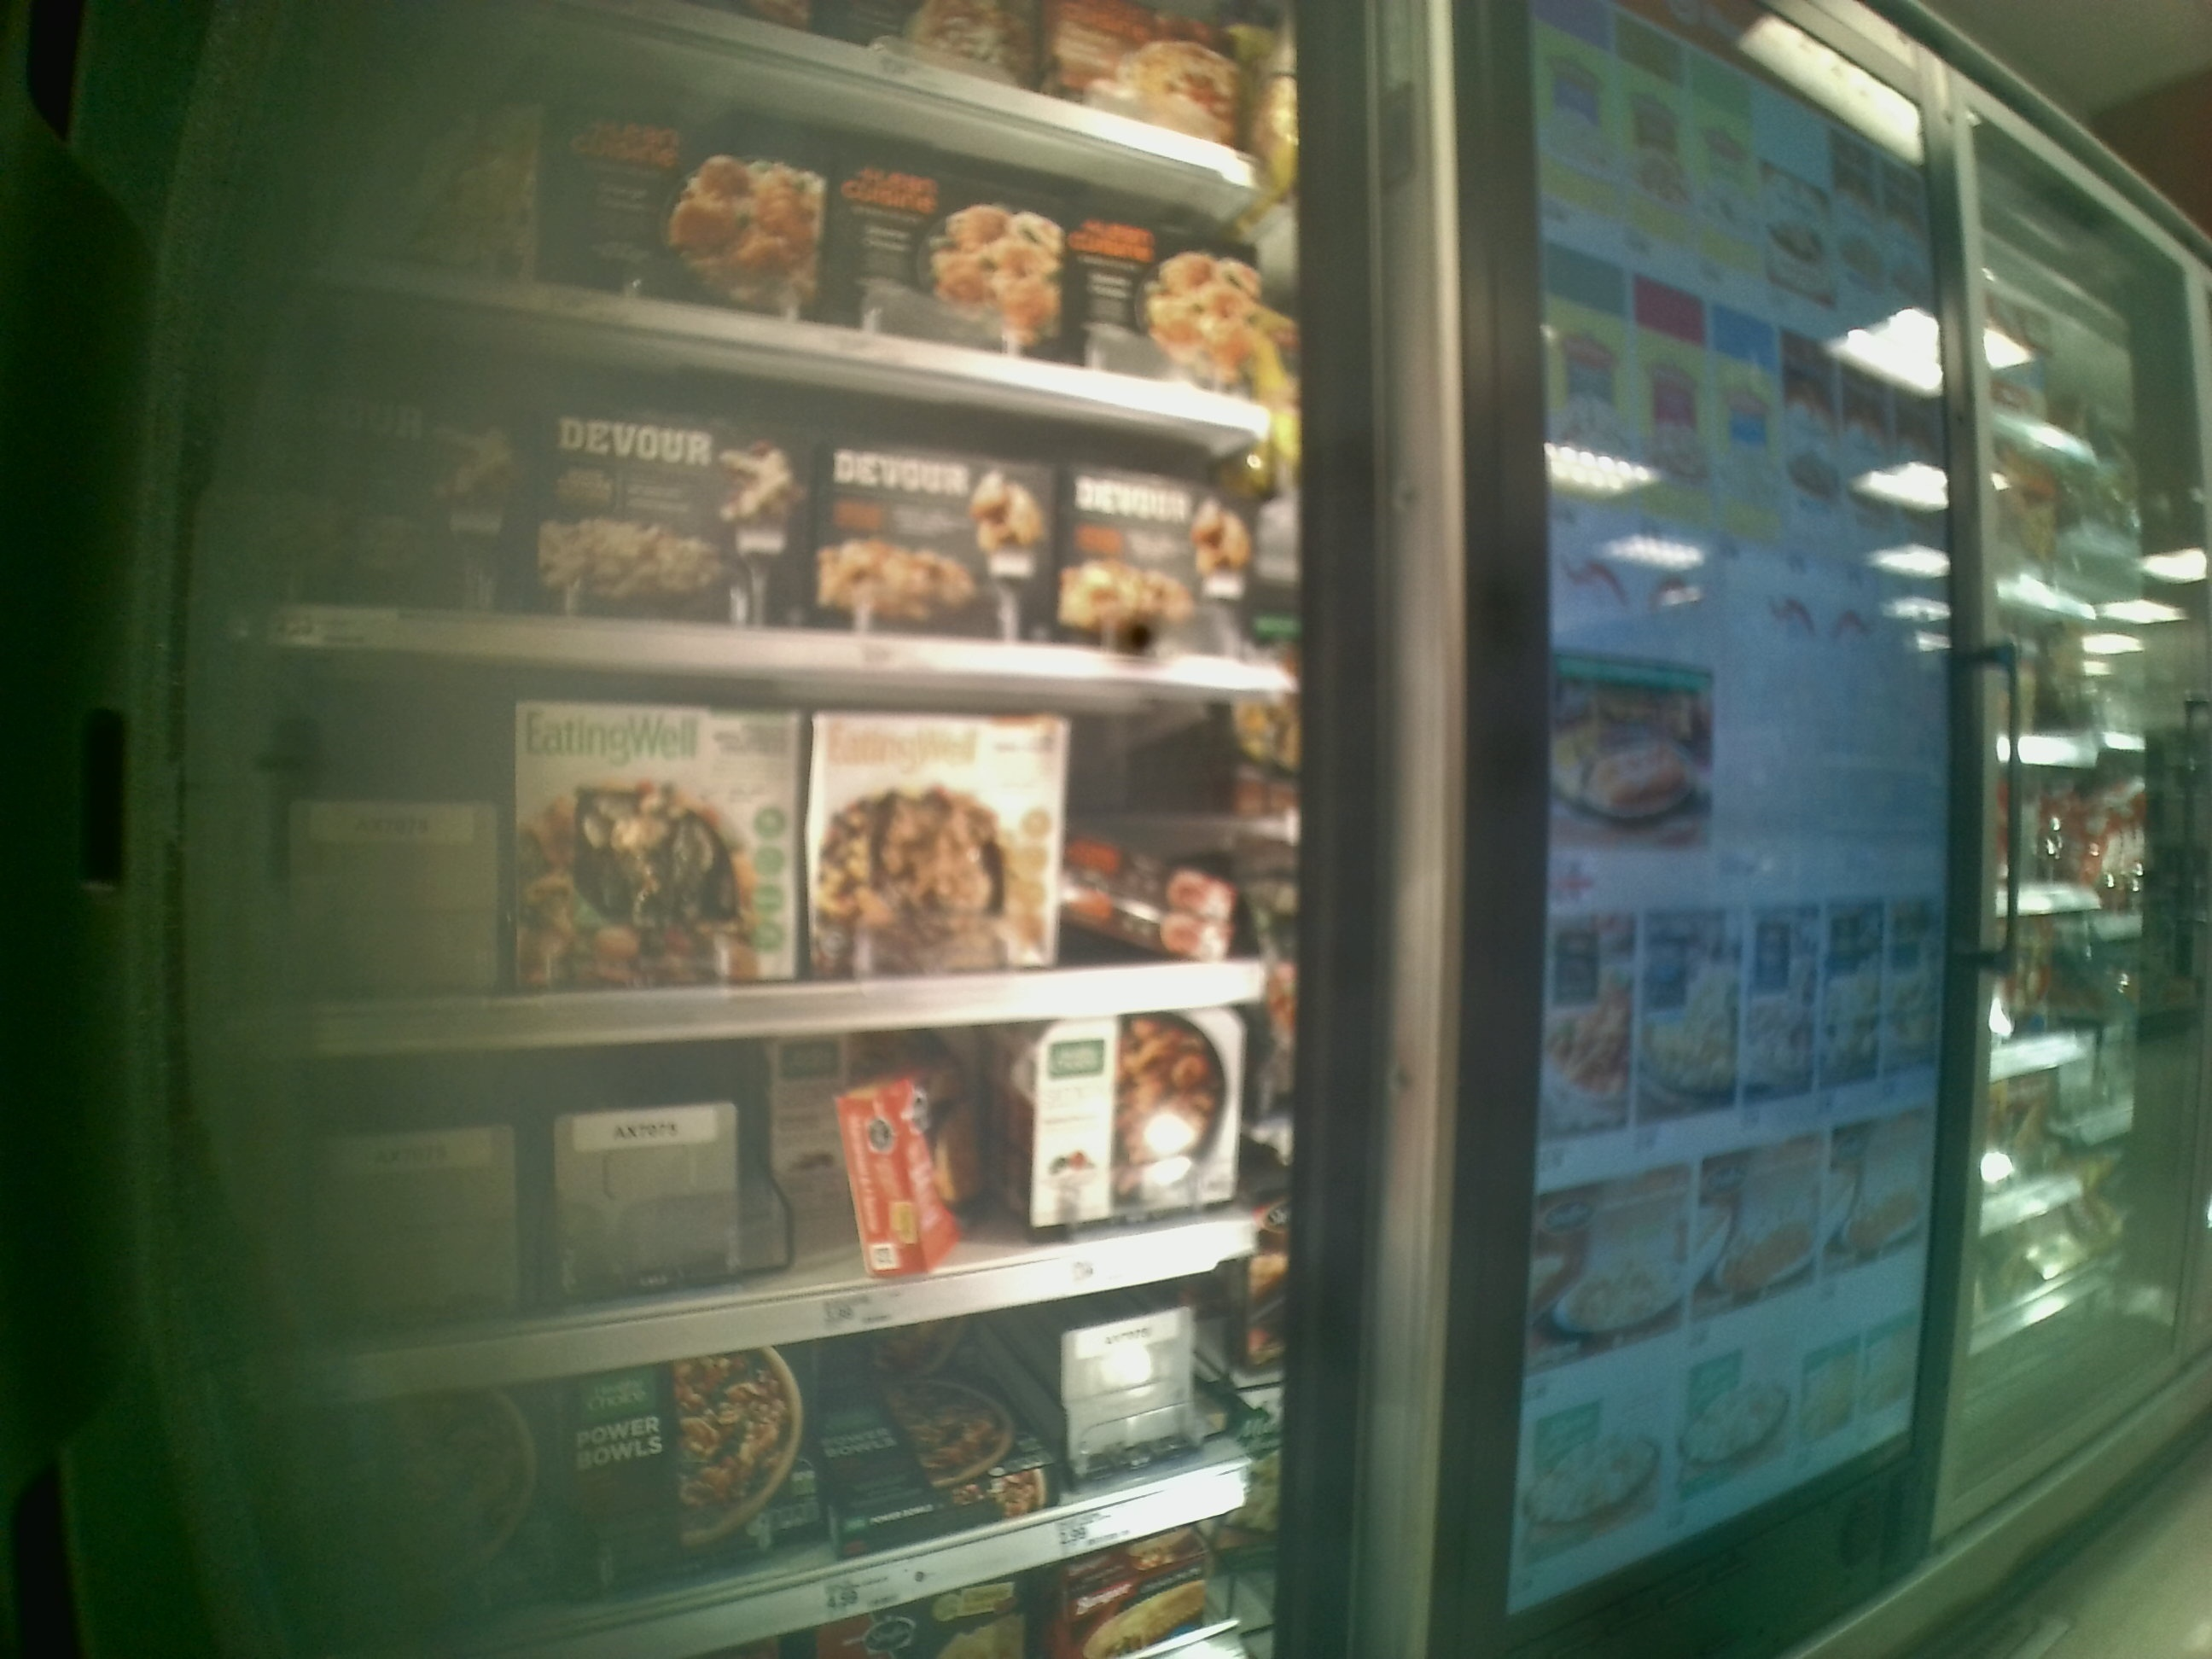shelf: (230, 633, 1305, 1054)
